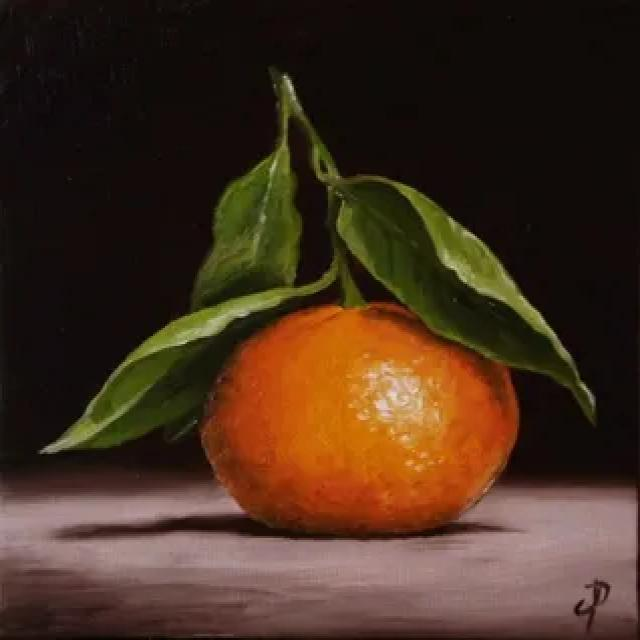orange: (192, 286, 527, 554)
